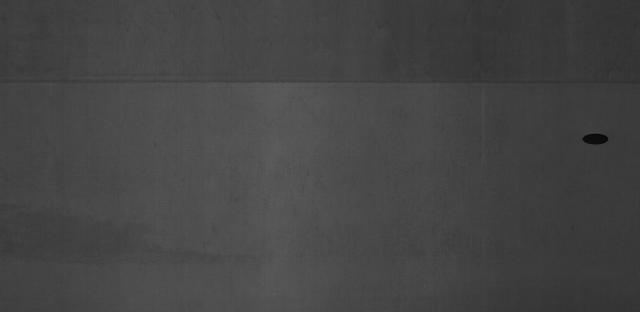punching_hole: (575, 123, 617, 150)
welding_line: (6, 73, 640, 100)
